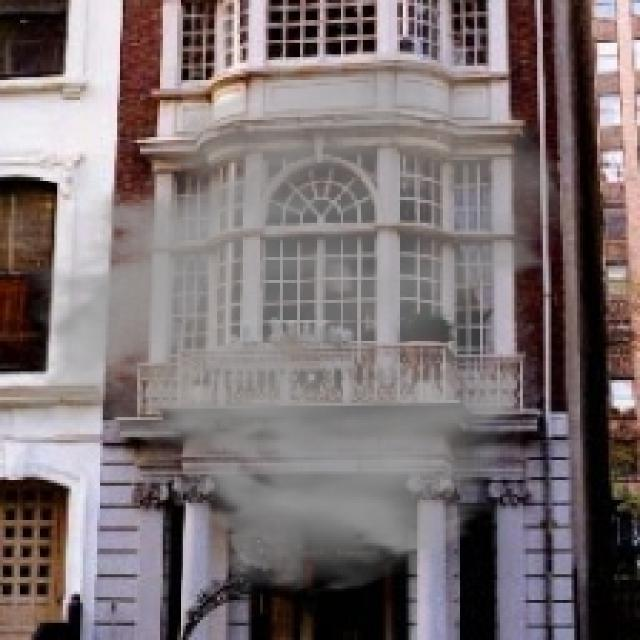Smoke: (11, 40, 572, 597)
